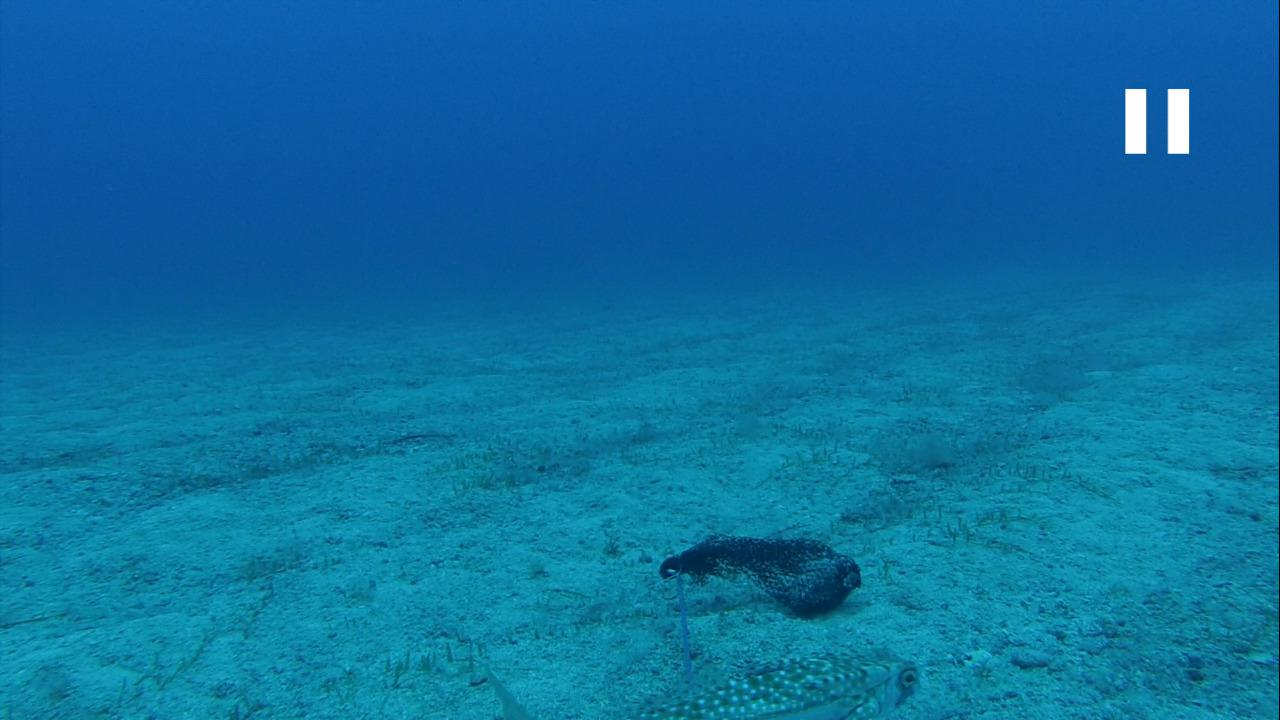dactylopterus: (640, 634, 928, 719)
